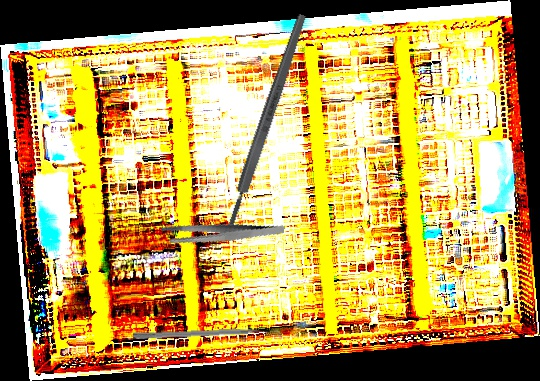Dressing Forceps: (158, 199, 286, 267)
Pusher: (132, 327, 278, 341)
Scalpel Handle: (222, 12, 310, 233)
